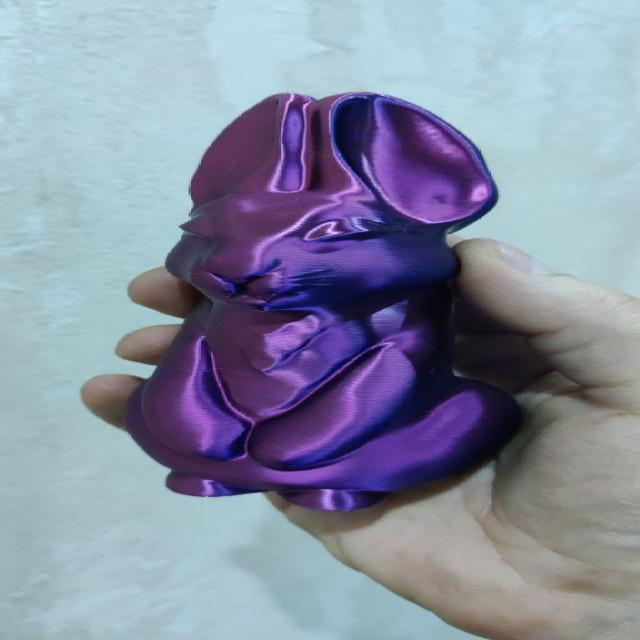Without deffect: (125, 86, 547, 528)
